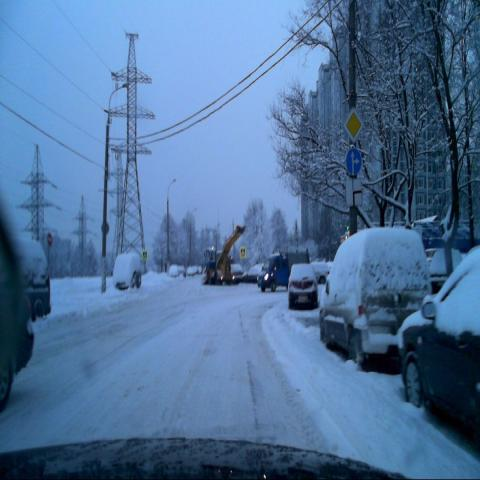4_1_4: (345, 147, 362, 175)
